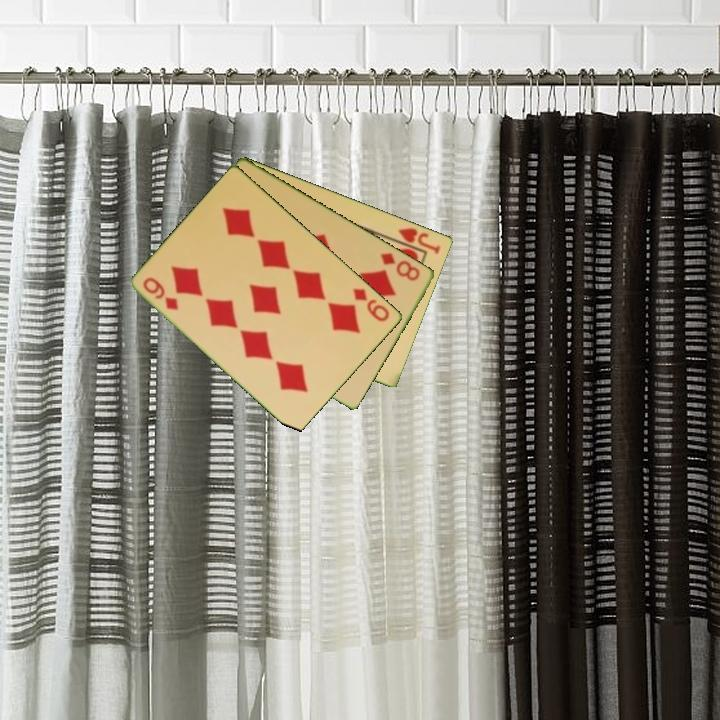8d: (377, 249, 423, 284)
9d: (350, 284, 393, 324), (140, 273, 182, 313)
Jh: (394, 224, 444, 257)
